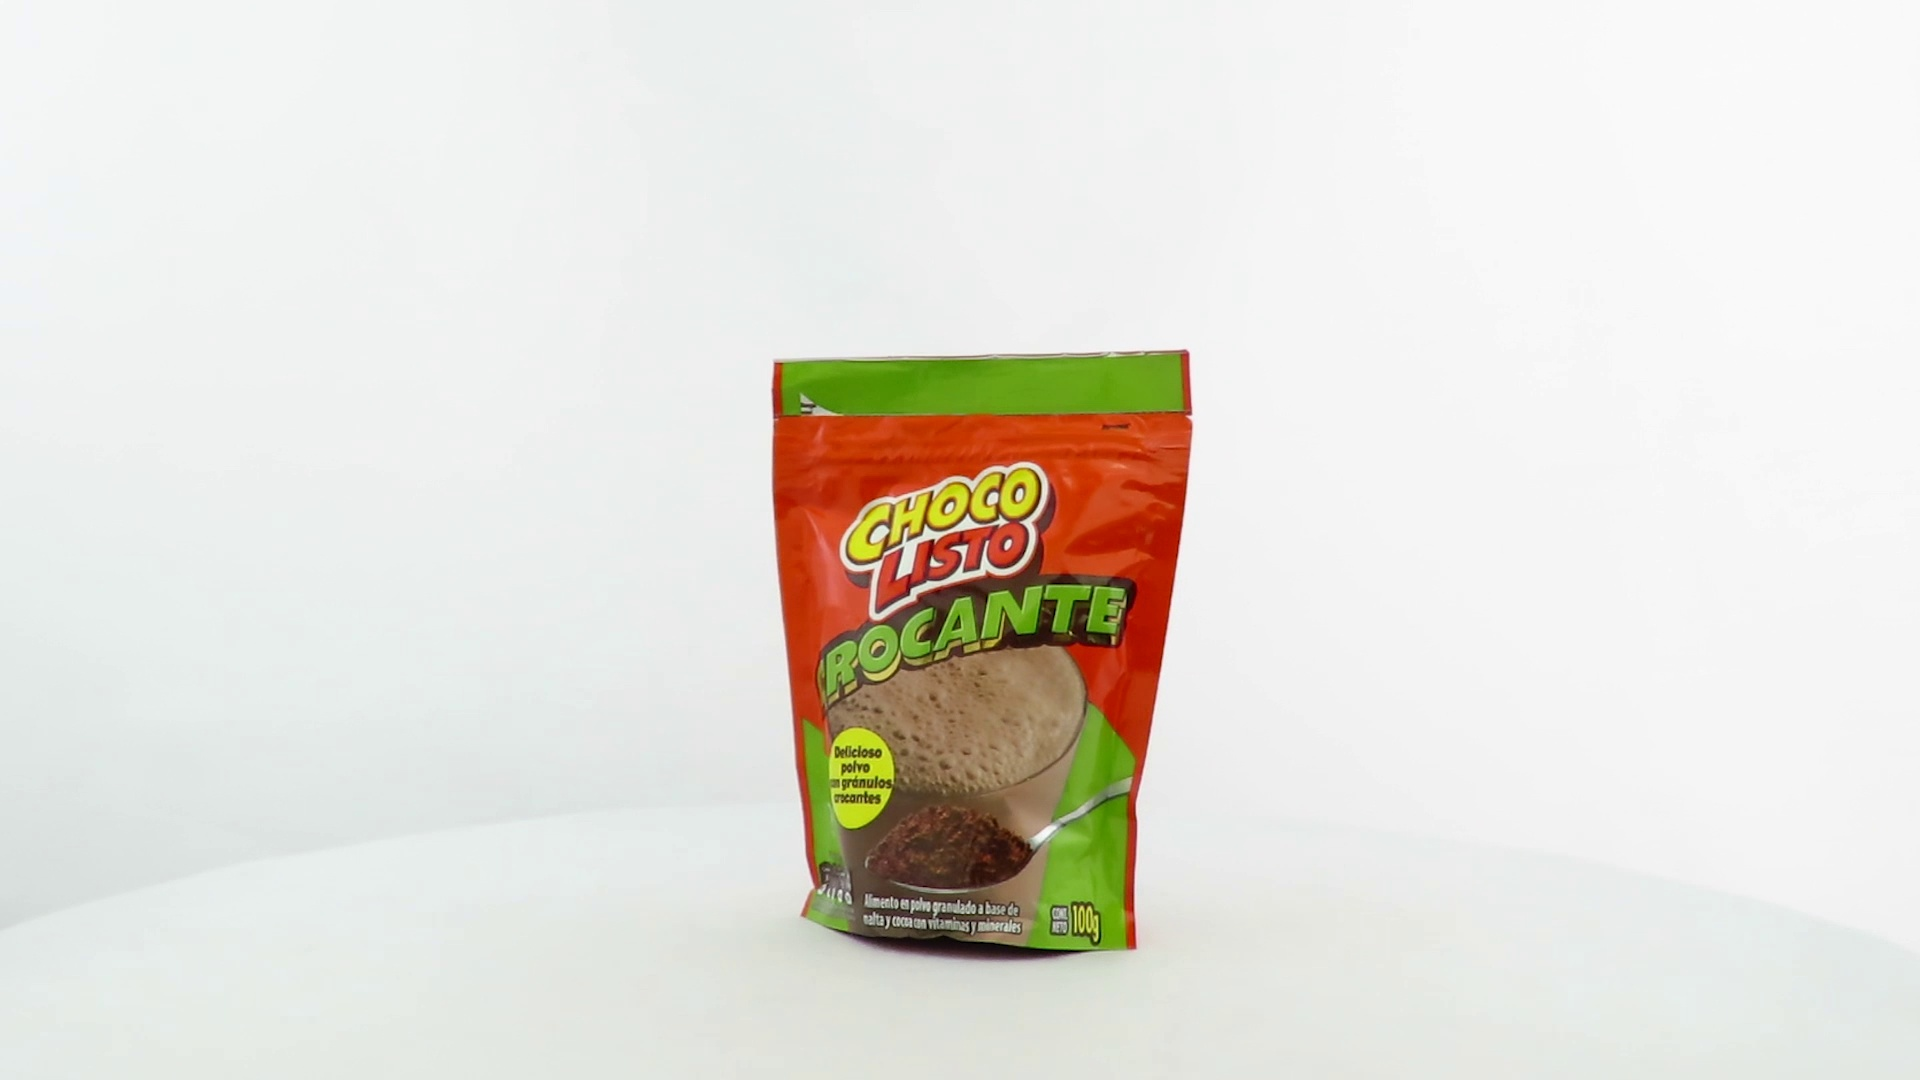COL0170102DYP10000: (766, 344, 1199, 967)
